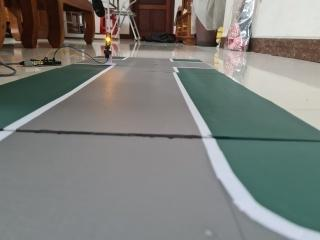yellow: (101, 26, 114, 51)
